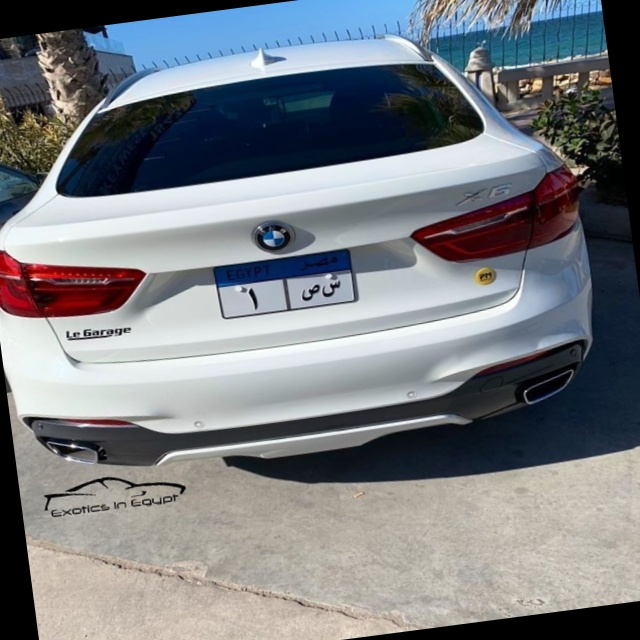License Plate: (208, 245, 362, 325)
